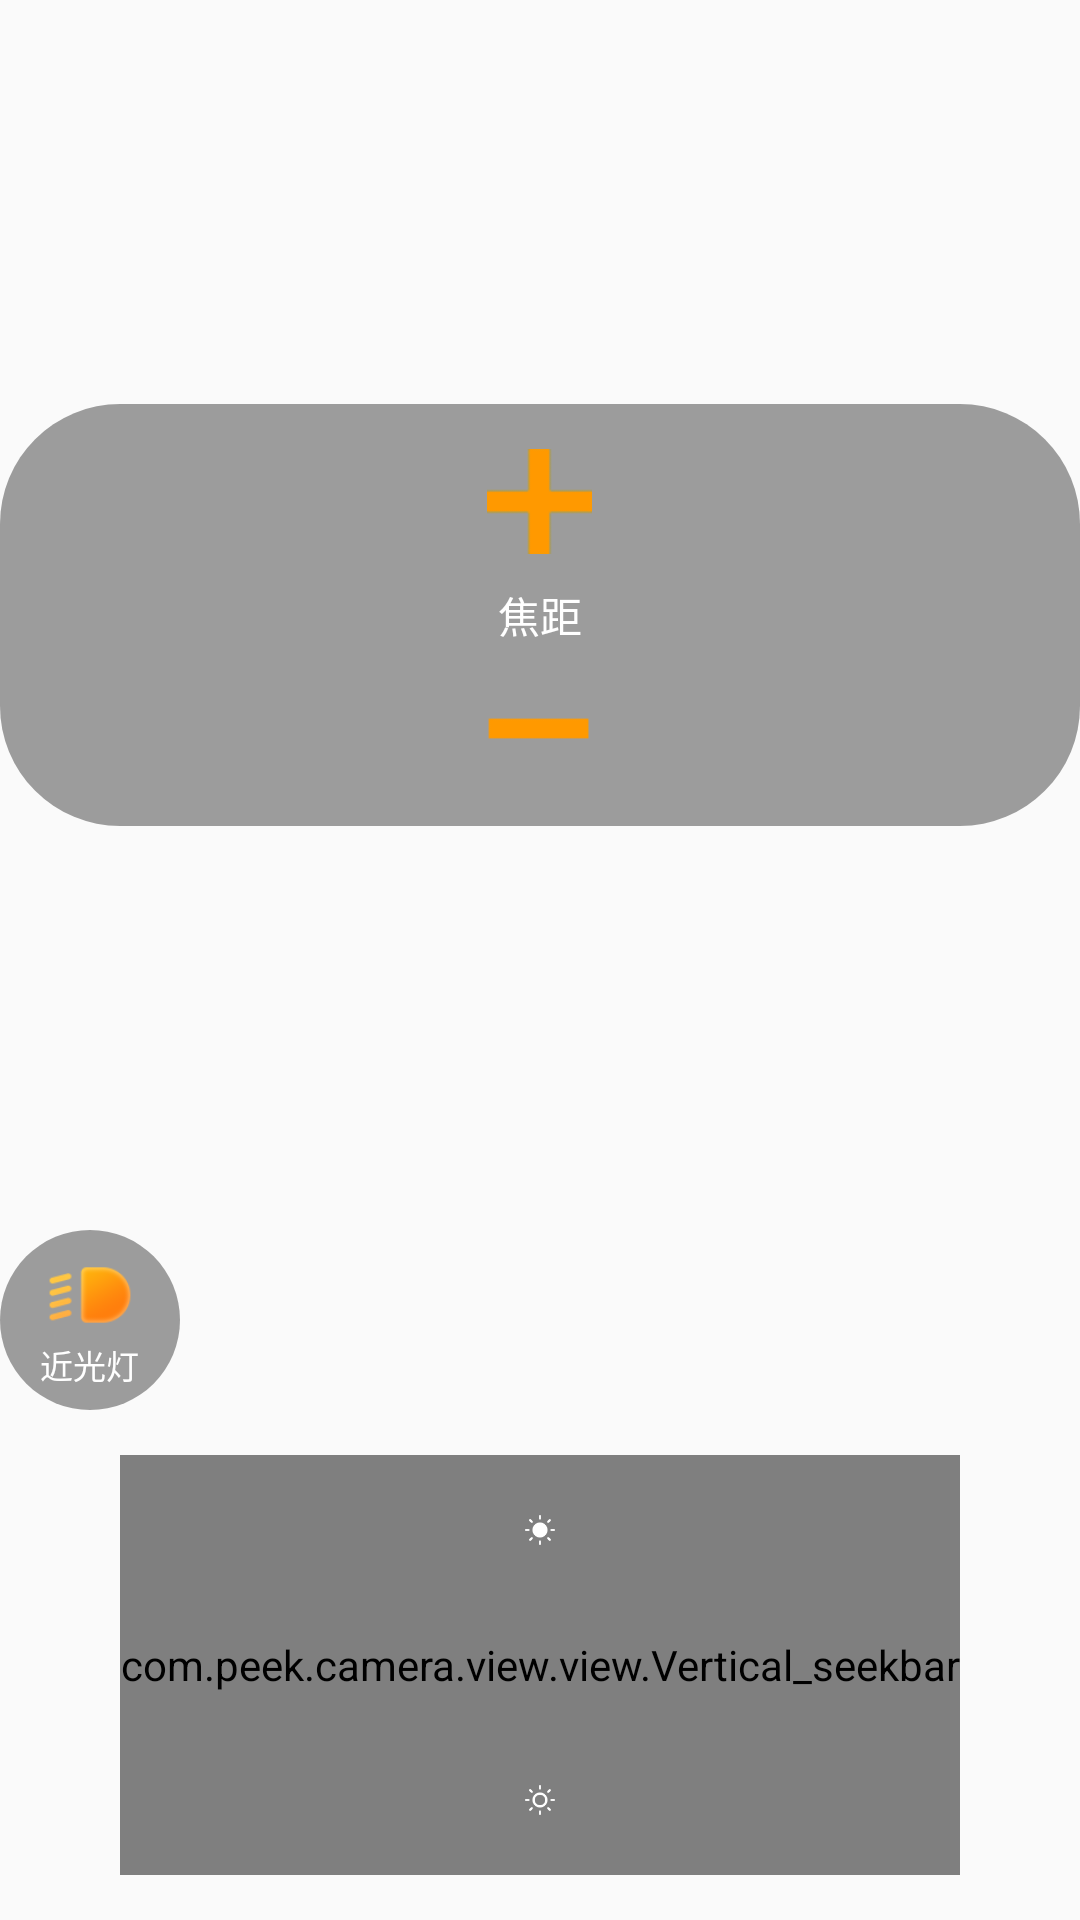

Icons on this 1080px×1920px Android screen, each with its box as (x1, y1, x2, y2):
add: (487, 449, 592, 554)
sub: (488, 718, 589, 739)
